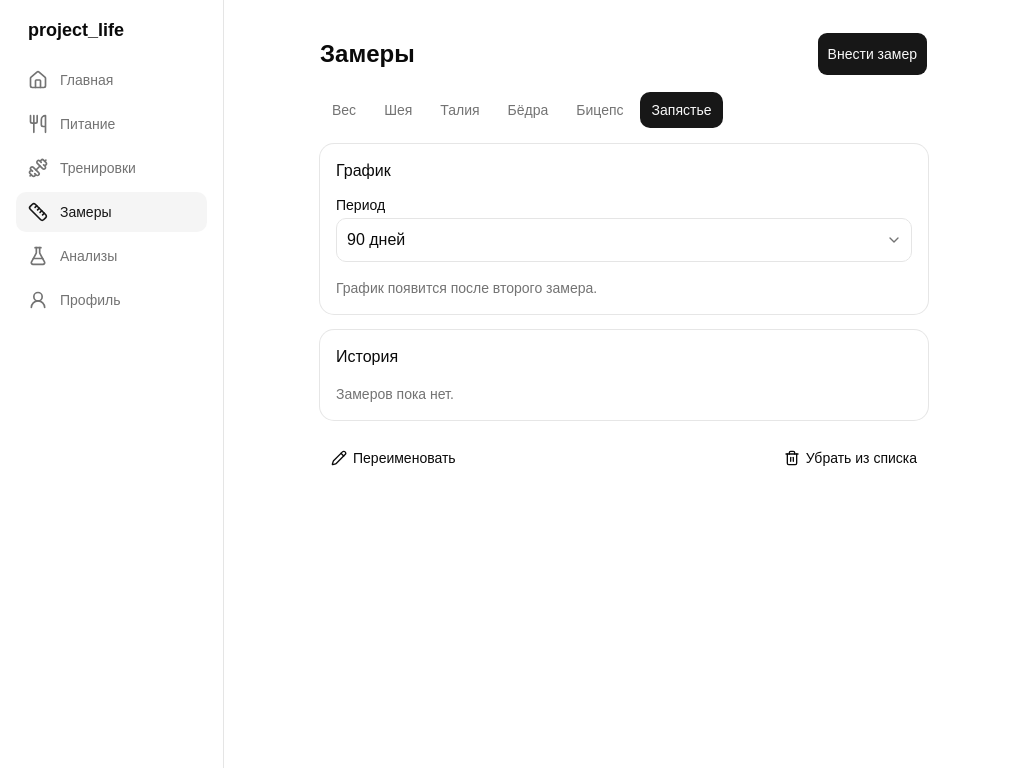
Test case: список видов замеров › показывает отказ сервера, когда вид не убрался
Click the button "Убрать из списка" at (850, 458), box [773, 436, 928, 480]
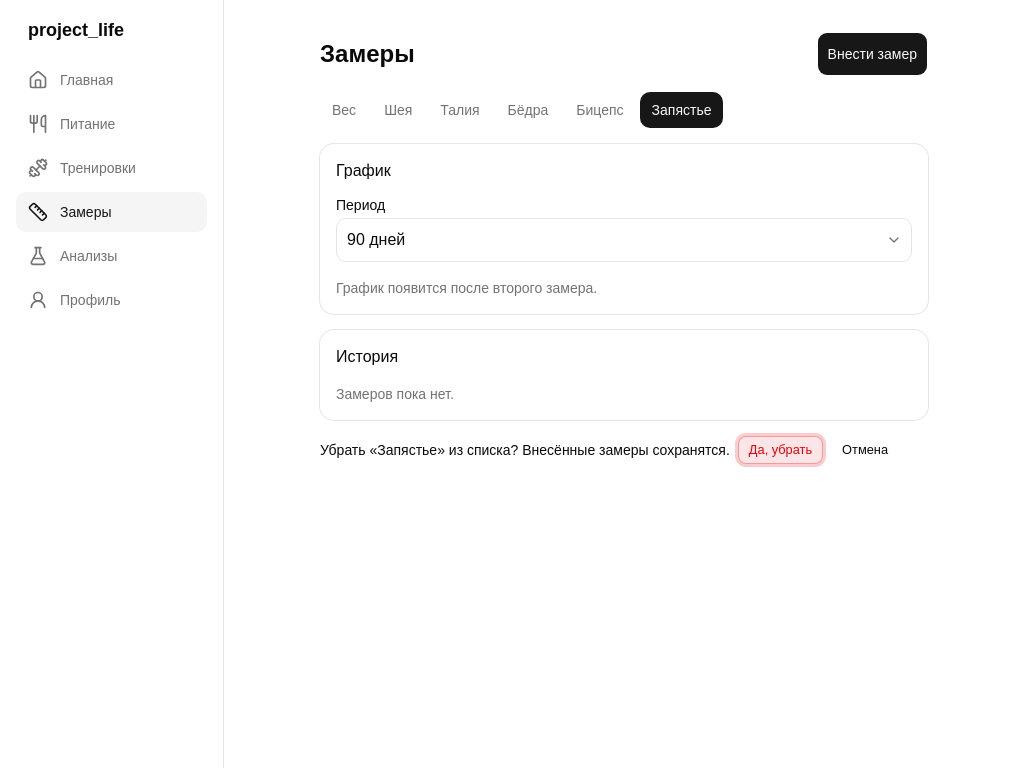
Click the button "Да, убрать" at (780, 450), box [738, 436, 823, 464]
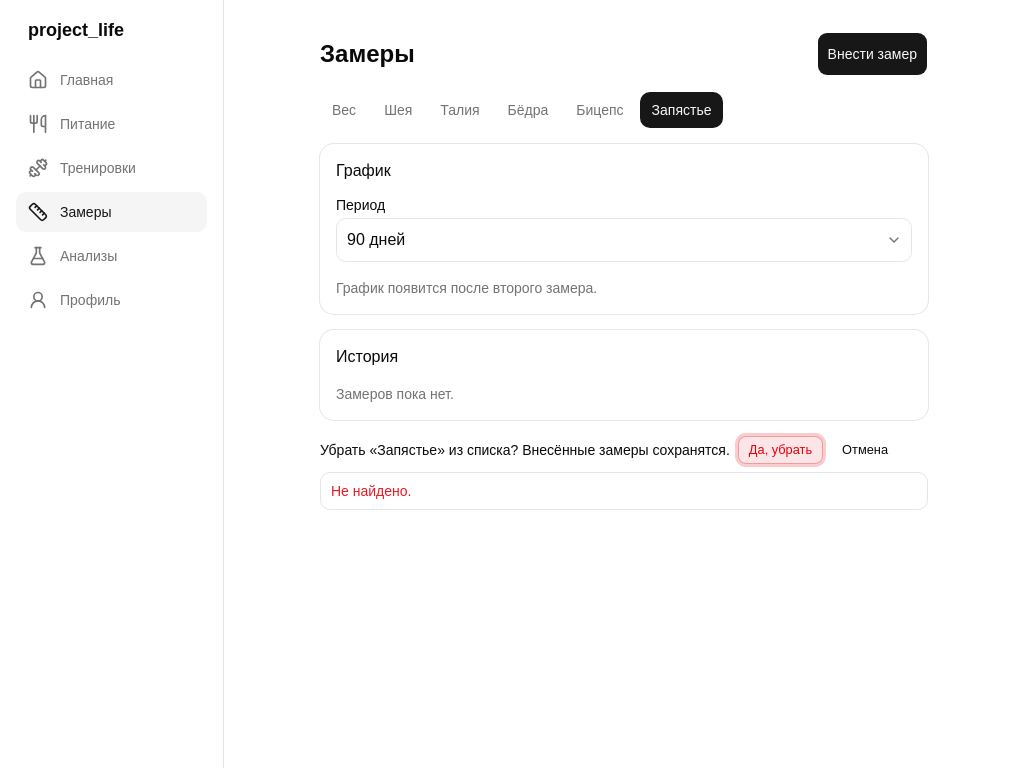
Expected: the message reads "Не найдено.", [331, 483, 412, 499]
